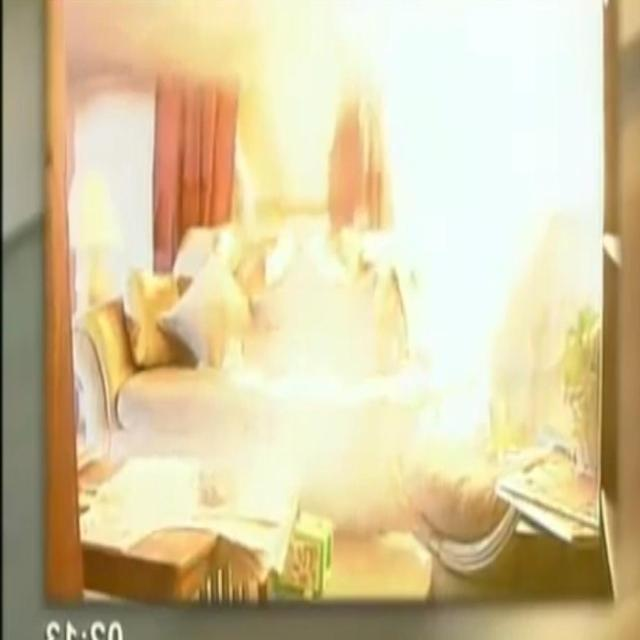smoke: (370, 0, 595, 455)
